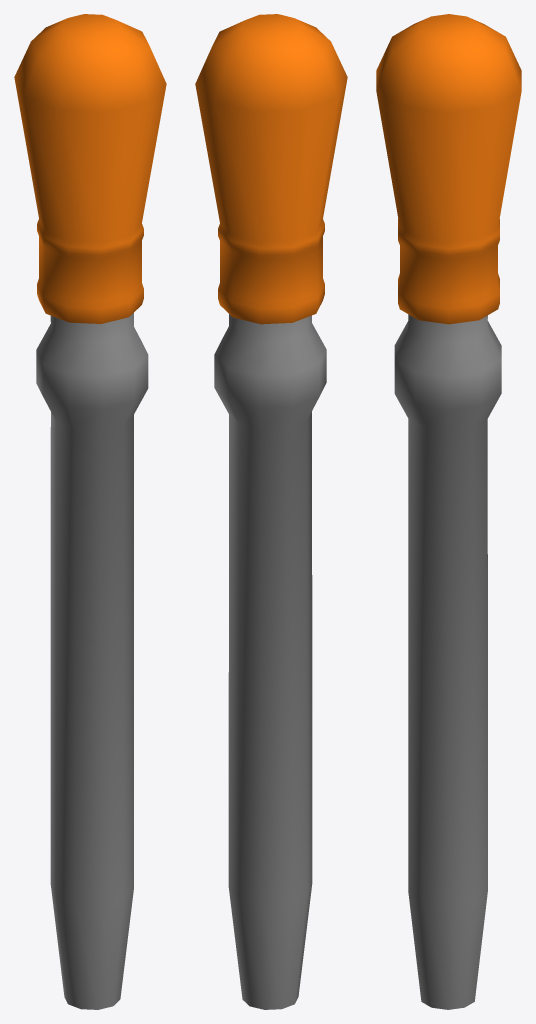
Rendered from SM_Pipette.FBX.
3 views of the same model, side by side, from view 1: azimuth 30°, elevation 25°; view 2: azimuth 150°, elevation 25°; view 3: azimuth 270°, elevation 25° (orthographic).
Visible parts, largest first — view 1: Cylinder003; view 2: Cylinder003; view 3: Cylinder003.
Part boxes in pixels (bbox=[...]): Cylinder003: bbox=[14, 14, 166, 1009]; Cylinder003: bbox=[195, 14, 347, 1009]; Cylinder003: bbox=[376, 14, 521, 1009].
Bounding box in the file's own units: 6.29 × 44.02 × 5.98.
